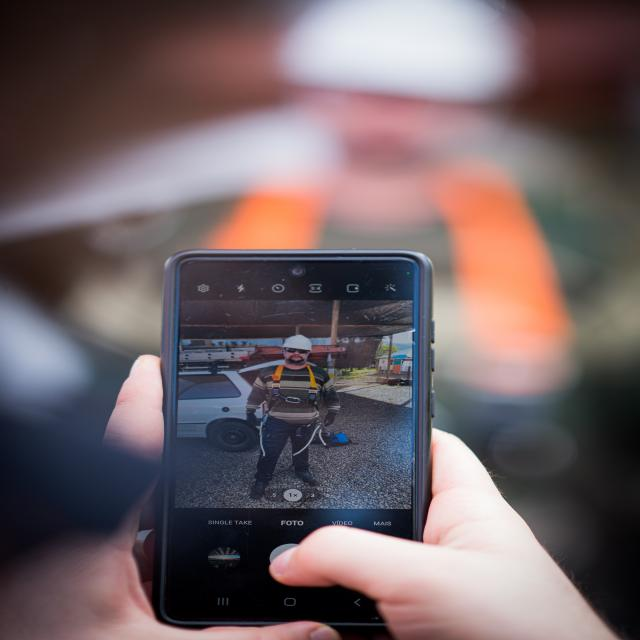botas: (291, 466, 319, 486), (246, 479, 267, 500)
capacete: (277, 333, 315, 351)
corda de vida: (260, 363, 319, 462)
luva: (317, 410, 338, 428), (242, 407, 260, 426)
